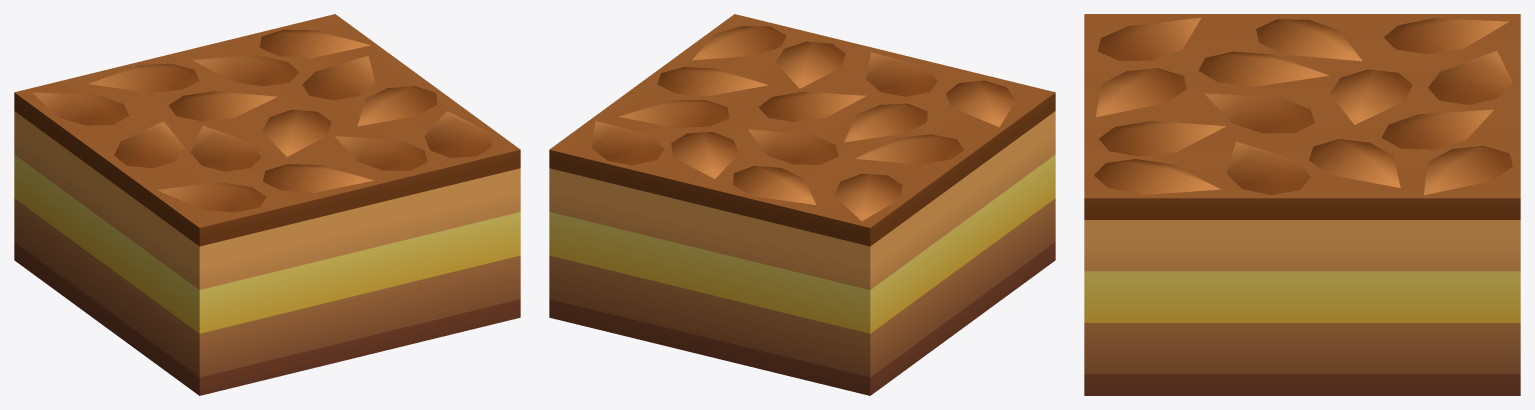
File: m_Bienenstich03_Slice03.fbx
The picture shows the model from 3 angles, left to right: view 1: azimuth 30°, elevation 25°; view 2: azimuth 150°, elevation 25°; view 3: azimuth 270°, elevation 25°; orthographic projection. The views are drawn at different scales.
Visible parts, largest first — view 1: m_Bienenstich03_Slice03; view 2: m_Bienenstich03_Slice03; view 3: m_Bienenstich03_Slice03.
Boxes of the visible parts, left/top/right/bottom form: m_Bienenstich03_Slice03: left=14, top=14, right=520, bottom=395; m_Bienenstich03_Slice03: left=549, top=14, right=1055, bottom=395; m_Bienenstich03_Slice03: left=1084, top=14, right=1520, bottom=395.
Bounding box in the file's own units: 10 × 5.3 × 10.
